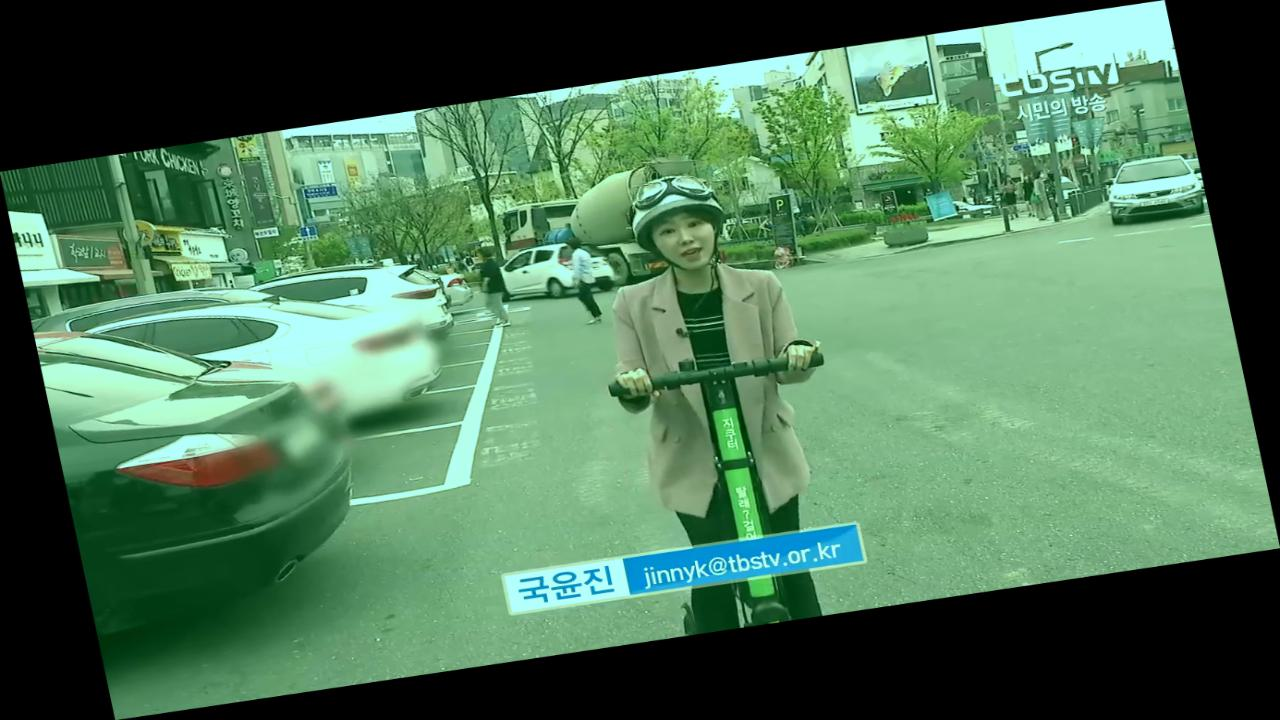helmet: (564, 160, 879, 640)
